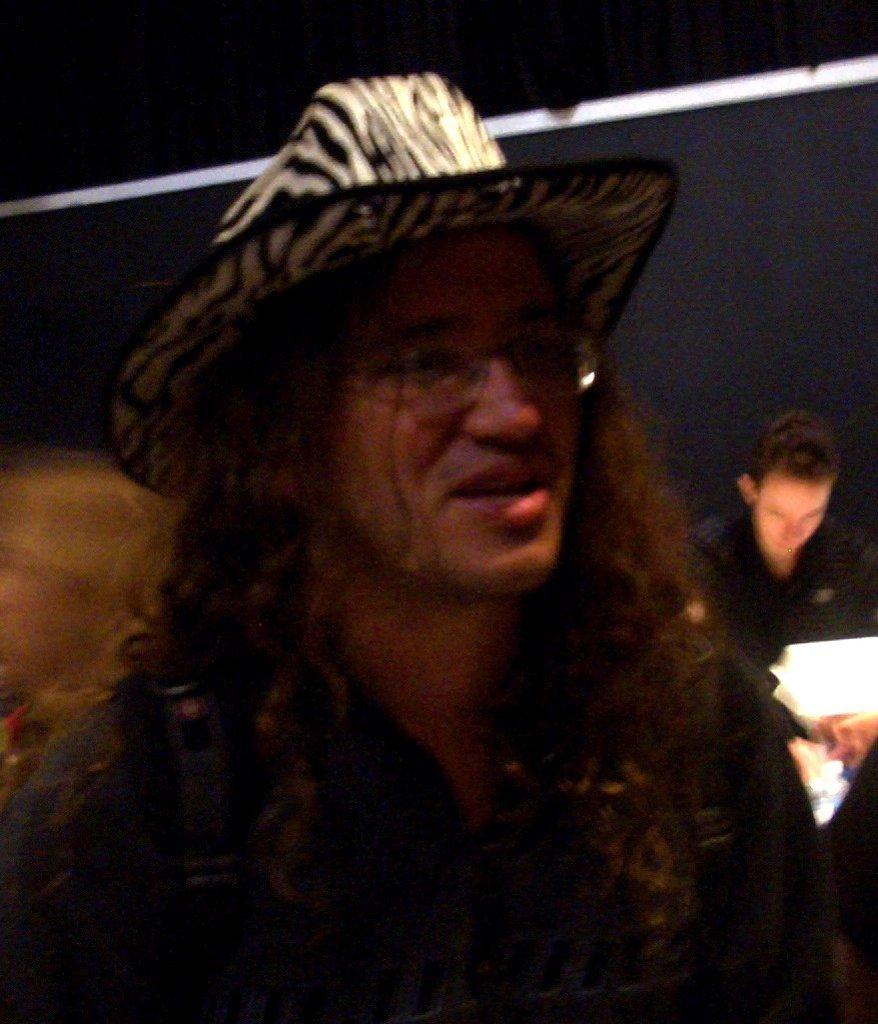Hat: (105, 70, 679, 500)
